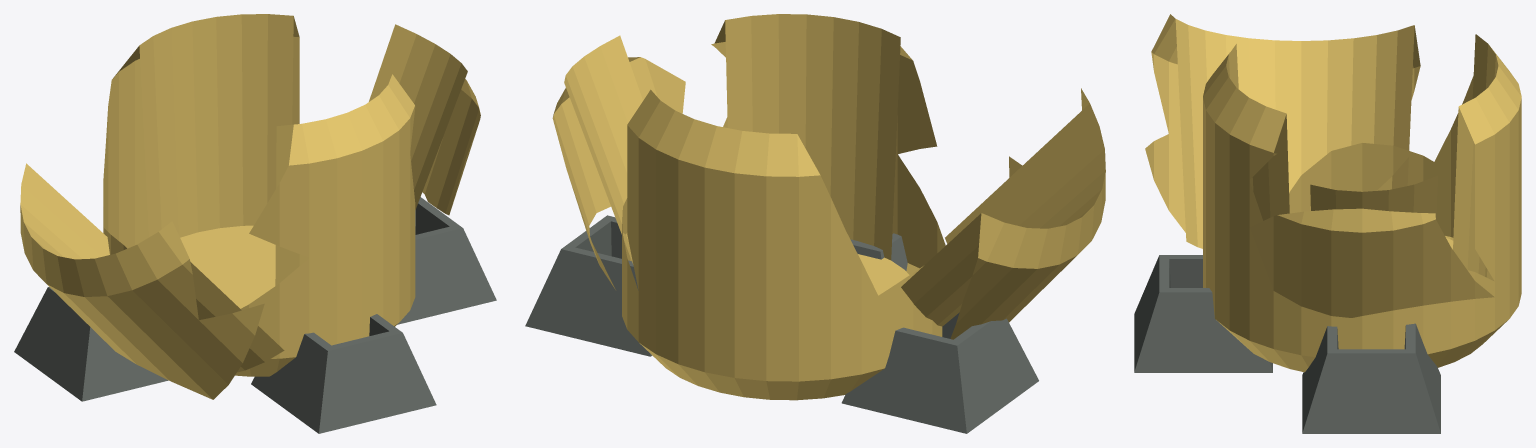
Rendered from Broken Gold mine.fbx.
3 views of the same model, side by side, from view 1: azimuth 30°, elevation 25°; view 2: azimuth 150°, elevation 25°; view 3: azimuth 270°, elevation 25° (orthographic). The views are drawn at different scales.
Visible parts, largest first — view 1: Broken Gold mine; view 2: Broken Gold mine; view 3: Broken Gold mine.
Boxes of the visible parts, <box> form: Broken Gold mine: <box>14,14,496,433</box>; Broken Gold mine: <box>525,14,1105,433</box>; Broken Gold mine: <box>1134,14,1521,433</box>.
Bounding box in the file's own units: 283 × 160 × 205.
